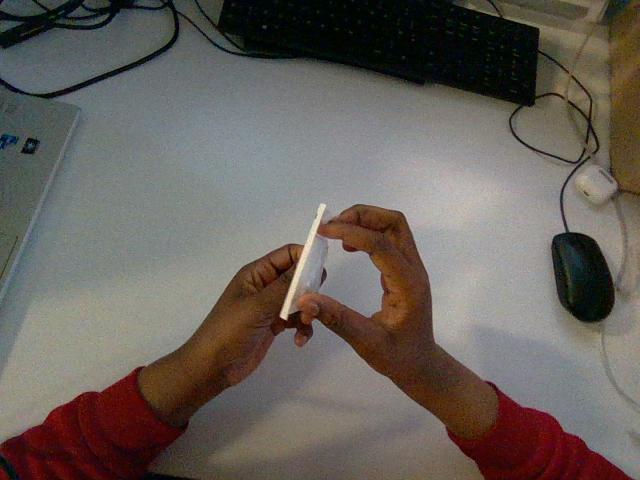gauze: (280, 204, 330, 319)
